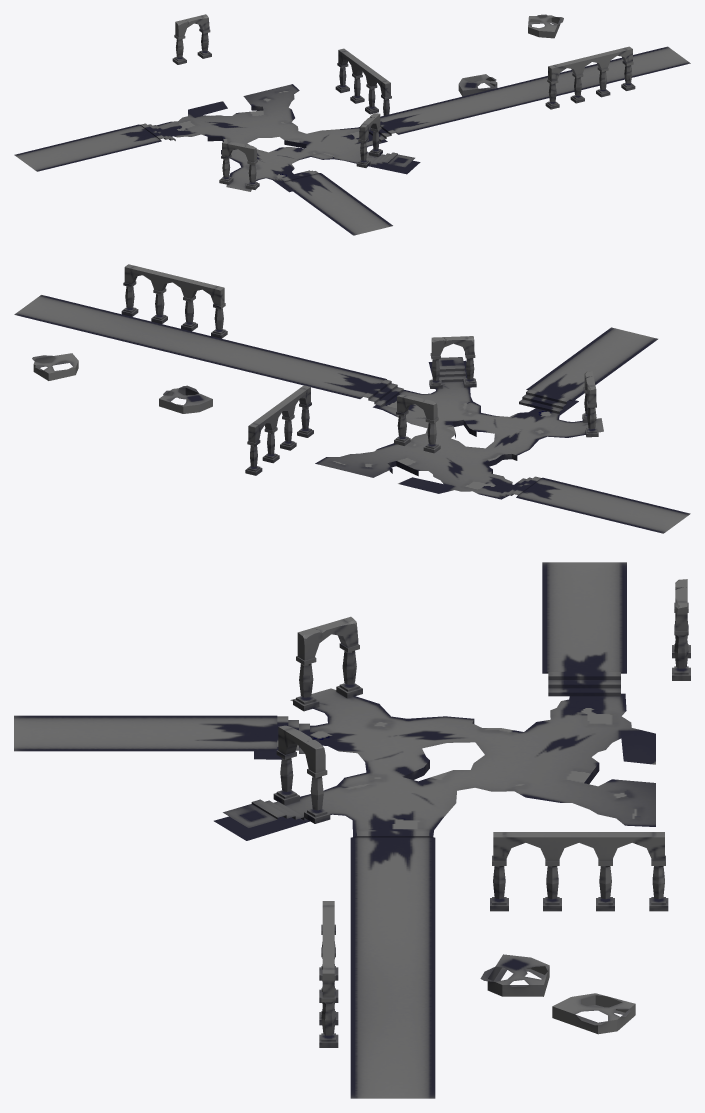
The model's file is Ground_02.FBX.
3 views of the same model, one above another, from view 1: azimuth 30°, elevation 25°; view 2: azimuth 150°, elevation 25°; view 3: azimuth 270°, elevation 25° (orthographic). The views are drawn at different scales.
Parts seen in each view (by area): view 1: Ground_02; view 2: Ground_02; view 3: Ground_02.
Part boxes in pixels (x1=…): Ground_02: x1=14, y1=14, x2=690, y2=235; Ground_02: x1=14, y1=264, x2=690, y2=533; Ground_02: x1=14, y1=562, x2=690, y2=1098.
Bounding box in the file's own units: 69.45 × 11.22 × 37.05.
